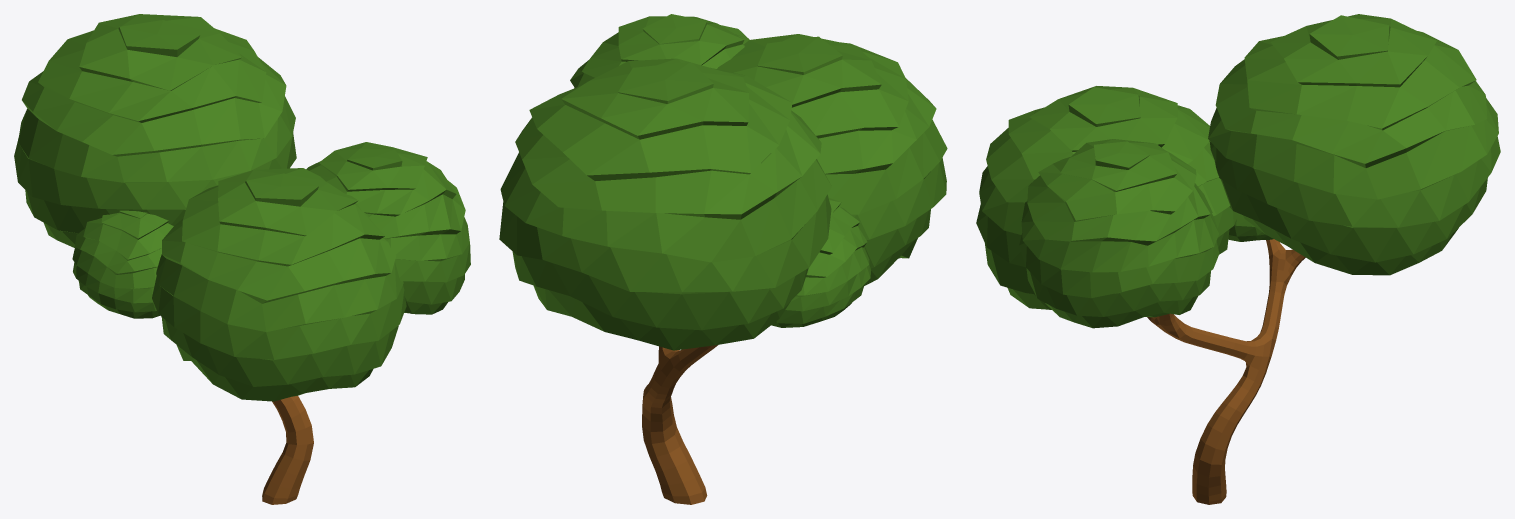
File: TreeHanging.glb
3 renders of one model, left to right at view 1: azimuth 30°, elevation 25°; view 2: azimuth 150°, elevation 25°; view 3: azimuth 270°, elevation 25°, orthographic. The views are drawn at different scales.
Parts seen in each view (by area): view 1: TreeHangingTop, TreeHangingStem; view 2: TreeHangingTop, TreeHangingStem; view 3: TreeHangingTop, TreeHangingStem.
Boxes of the visible parts, <box> form: TreeHangingTop: <box>14,14,470,401</box>; TreeHangingStem: <box>262,396,313,504</box>; TreeHangingTop: <box>499,14,947,350</box>; TreeHangingStem: <box>642,345,717,504</box>; TreeHangingTop: <box>976,14,1500,328</box>; TreeHangingStem: <box>1147,239,1305,504</box>.
Size of the model in its own units: 4.82 by 6.25 by 6.8.
Materials: 2 (2 with a texture image).
